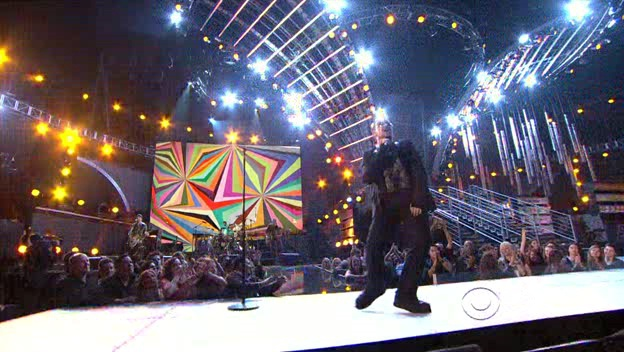person: (362, 119, 430, 234), (359, 119, 427, 234), (365, 119, 433, 234), (362, 116, 430, 231), (362, 122, 430, 237)
target_negative: (29, 16, 139, 325), (227, 208, 432, 326), (507, 201, 573, 316), (279, 193, 446, 219), (619, 130, 621, 291), (612, 176, 613, 203)
